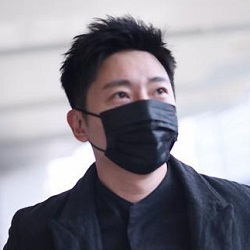mask: (70, 93, 178, 172)
